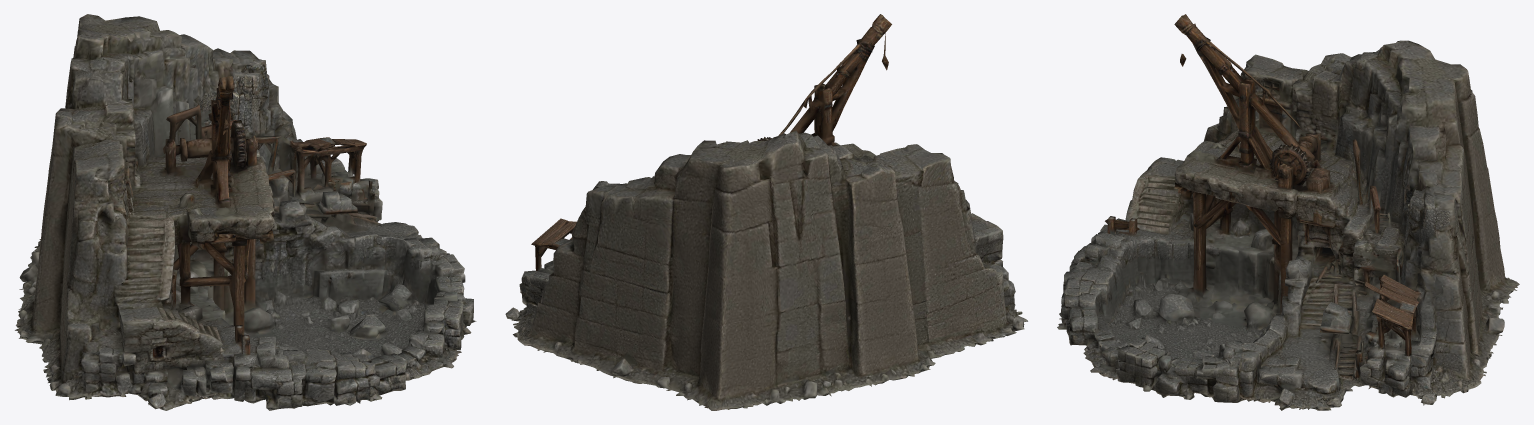
Rendered from Каменоломня.glb.
3 renders of one model, left to right at view 1: azimuth 30°, elevation 25°; view 2: azimuth 150°, elevation 25°; view 3: azimuth 270°, elevation 25°, orthographic. The views are drawn at different scales.
Parts seen in each view (by area): view 1: tripo_node_af37ec93-0aff-401f-83de-f83320fa9e37; view 2: tripo_node_af37ec93-0aff-401f-83de-f83320fa9e37; view 3: tripo_node_af37ec93-0aff-401f-83de-f83320fa9e37.
Part boxes in pixels (x1,y1,x2,y2): tripo_node_af37ec93-0aff-401f-83de-f83320fa9e37: (15, 14, 476, 410); tripo_node_af37ec93-0aff-401f-83de-f83320fa9e37: (505, 14, 1027, 410); tripo_node_af37ec93-0aff-401f-83de-f83320fa9e37: (1057, 14, 1519, 410).
Size of the model in its own units: 1 by 0.6662 by 0.9828.
1 material, 1 textured.
